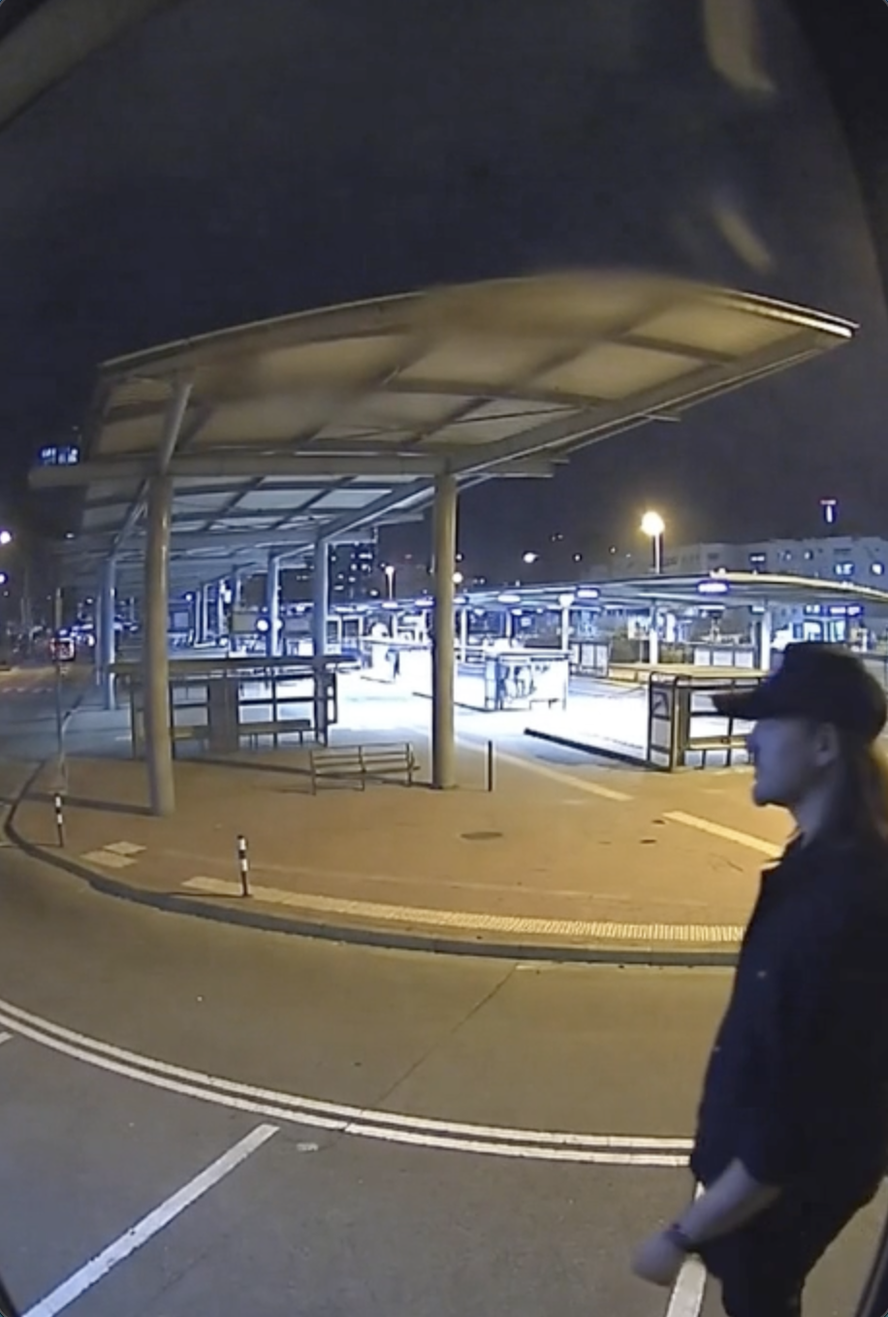Heavy Gun: (628, 636, 888, 1317)
